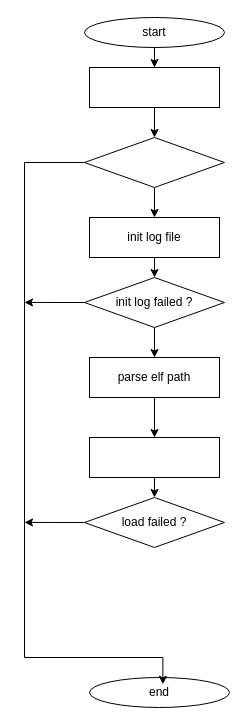
Some shapes in this 247 by 725 pixel diagram are drawn without their labels. The box of each missing label's shape, as (x1, y1, x2, y2) in pixels:
args invalid ?: (84, 136, 224, 188)
load elf: (88, 436, 220, 478)
parse args: (88, 66, 220, 108)
